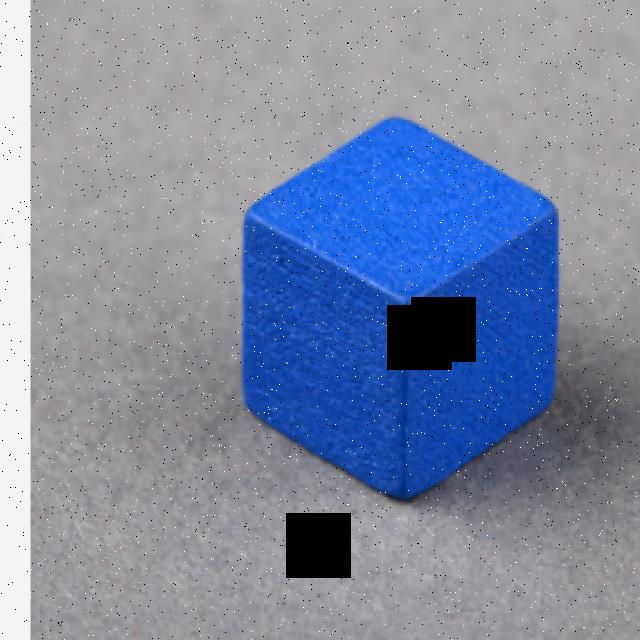bluecube: (240, 112, 561, 504)
